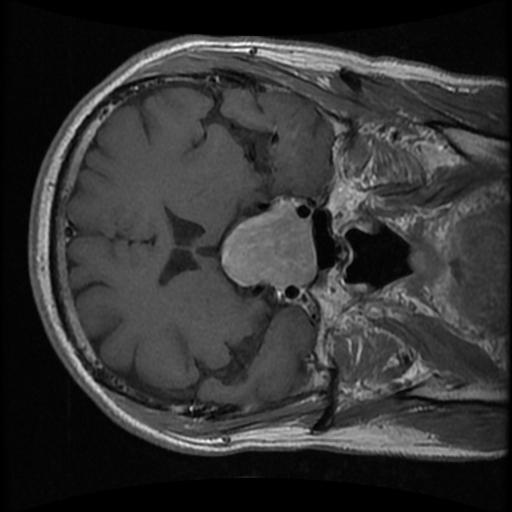pituitary tumour: (220, 196, 316, 291)
